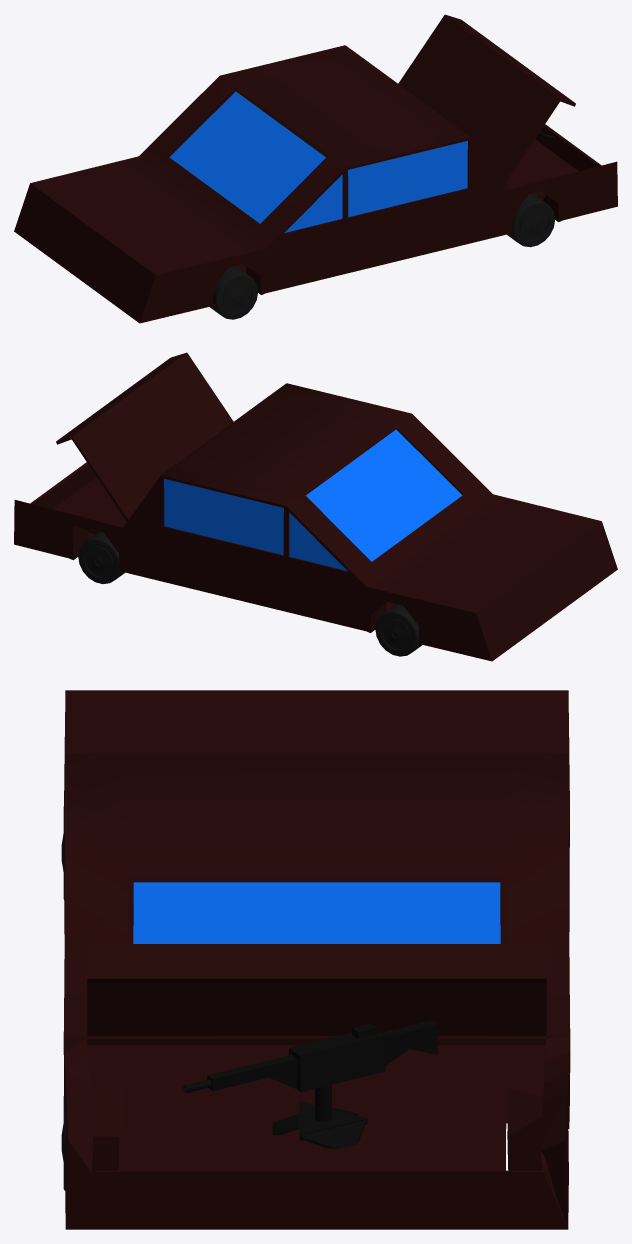
Rendered from Enemie03_Mapa03.FBX.
3 views of the same model, one above another, from view 1: azimuth 30°, elevation 25°; view 2: azimuth 150°, elevation 25°; view 3: azimuth 270°, elevation 25° (orthographic). The views are drawn at different scales.
Parts seen in each view (by area): view 1: Box187; view 2: Box187; view 3: Box187.
Part boxes in pixels (x1=…): Box187: x1=14, y1=14, x2=617, y2=323; Box187: x1=14, y1=352, x2=617, y2=661; Box187: x1=61, y1=690, x2=570, y2=1229.
Size of the model in its own units: 60.71 by 16.53 by 27.93.
